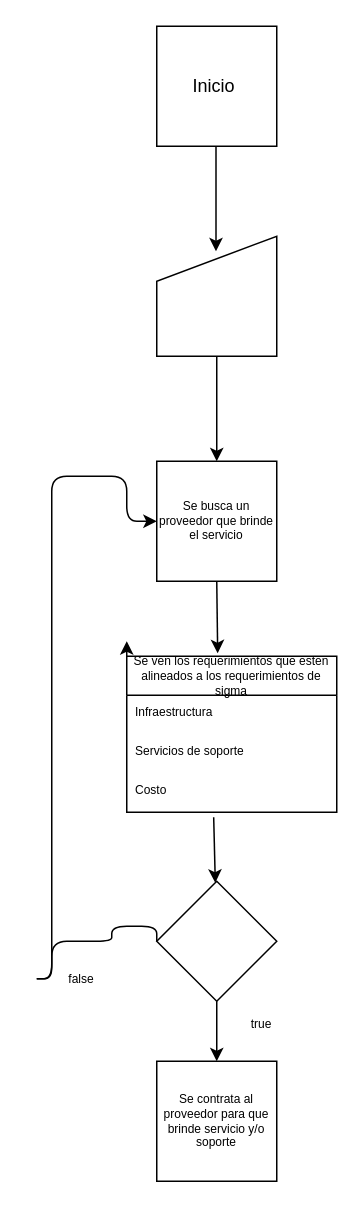
This 363x1208 diagram has some shape labels left out. The shapes that lost their labels are listed below. From the top down, each one's centre as x and y in pixels, then its label:
the point at 216,295: Se tiene un problema a solucionar
the point at 216,940: Si cumple los requerimientos
